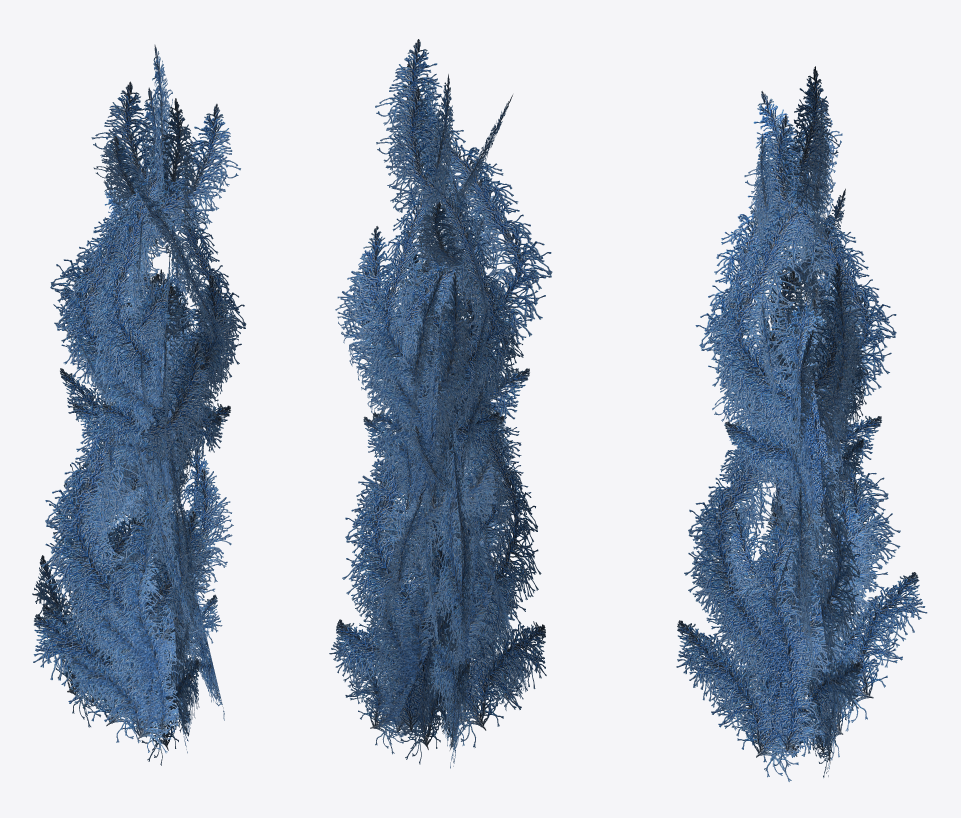
File: plante_5_3.FBX
3 views of the same model, side by side, from view 1: azimuth 30°, elevation 25°; view 2: azimuth 150°, elevation 25°; view 3: azimuth 270°, elevation 25° (orthographic). The views are drawn at different scales.
Parts seen in each view (by area): view 1: Plane451; view 2: Plane451; view 3: Plane451.
Part boxes in pixels (left/top/right/bottom): Plane451: left=32, top=44, right=246, bottom=765; Plane451: left=329, top=39, right=552, bottom=768; Plane451: left=676, top=66, right=927, bottom=781.
Size of the model in its own units: 153 by 484 by 190.
Materials: 1 (1 with a texture image).
